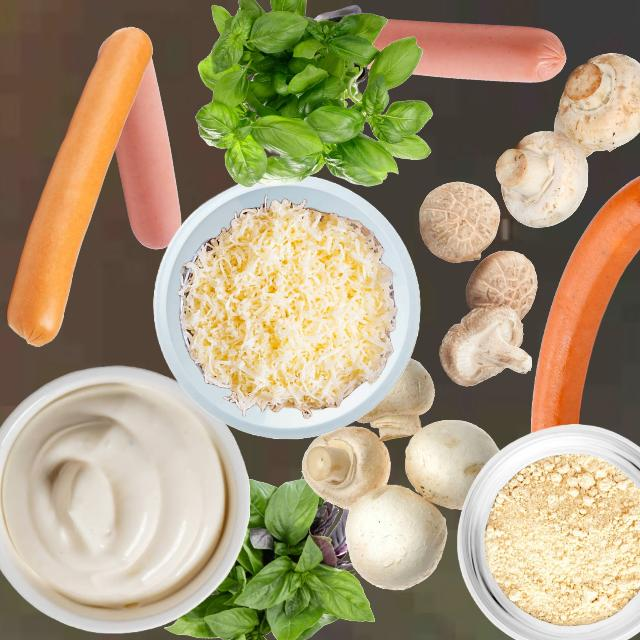Flour: (483, 452, 639, 625)
